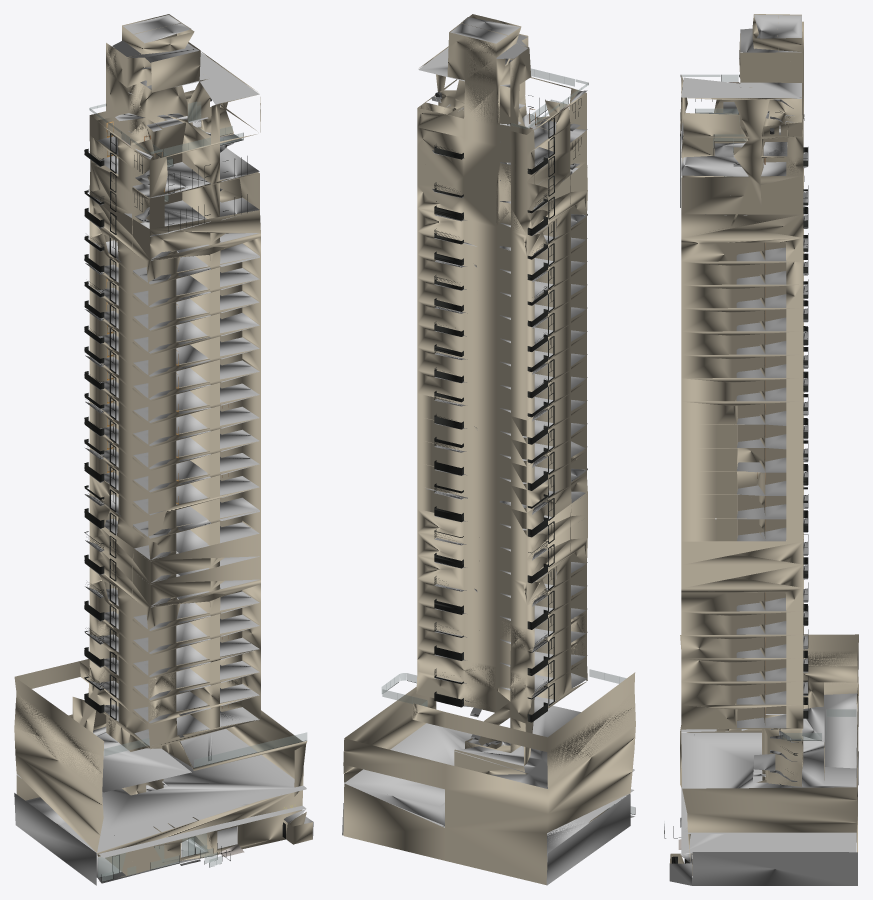
File: fachada-01.glb
The picture shows the model from 3 angles, left to right: view 1: azimuth 30°, elevation 25°; view 2: azimuth 150°, elevation 25°; view 3: azimuth 270°, elevation 25°; orthographic projection.
Size of the model in its own units: 30.23 by 112 by 24.52.
